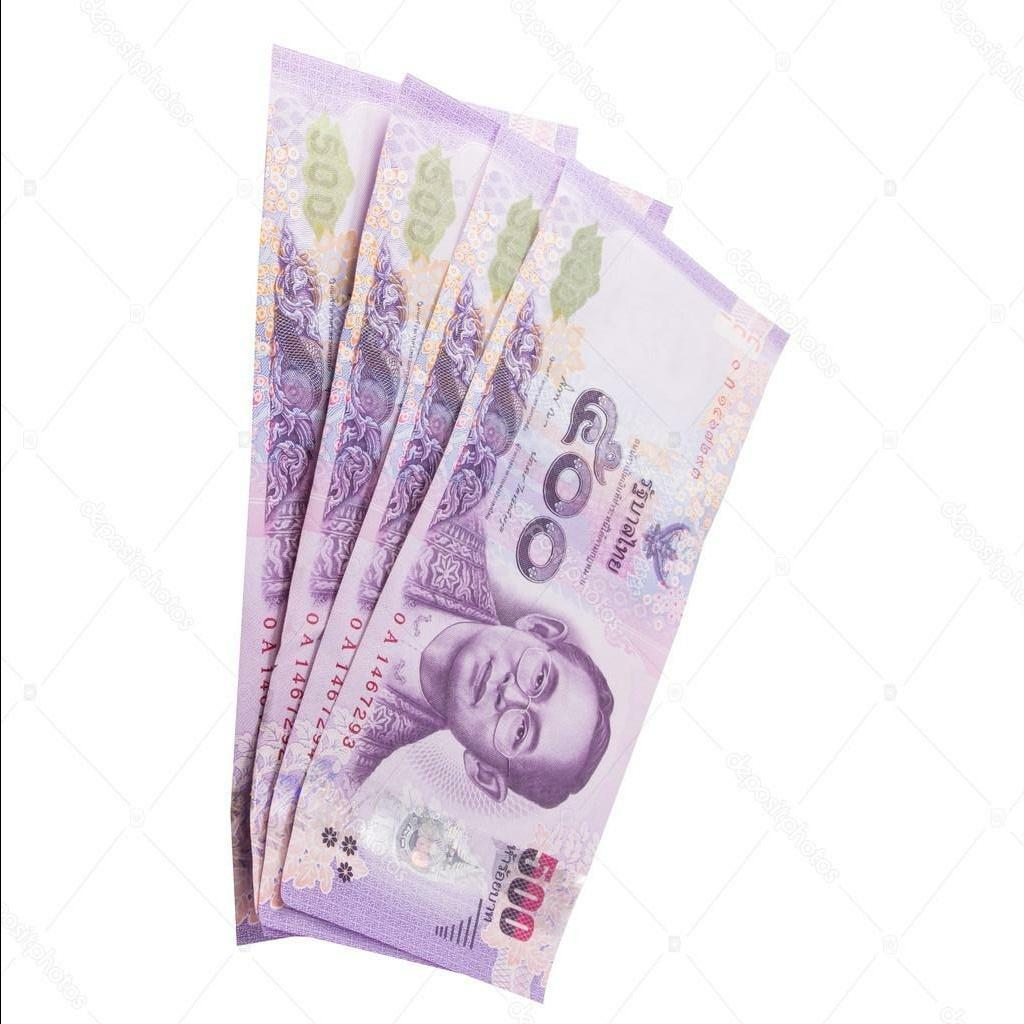500BahtTai: (331, 229, 779, 1001)
